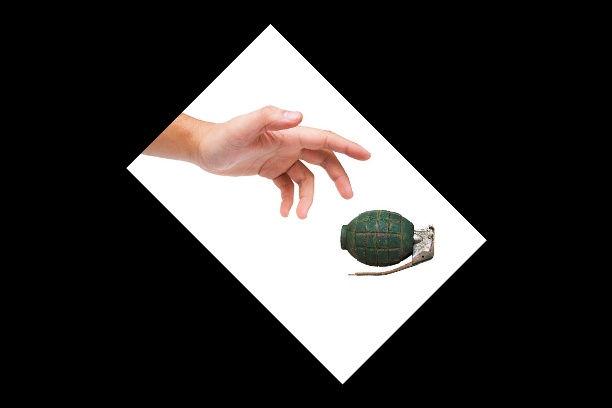e1: (338, 208, 437, 279)
